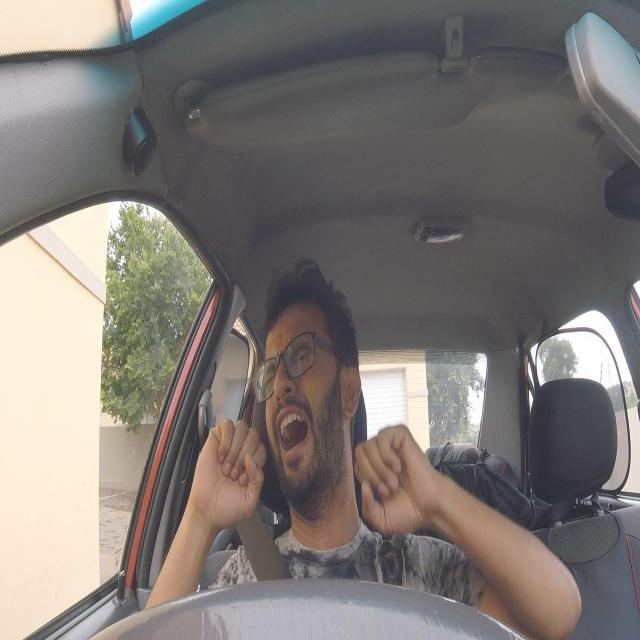close: (287, 333, 312, 375), (260, 358, 280, 398)
